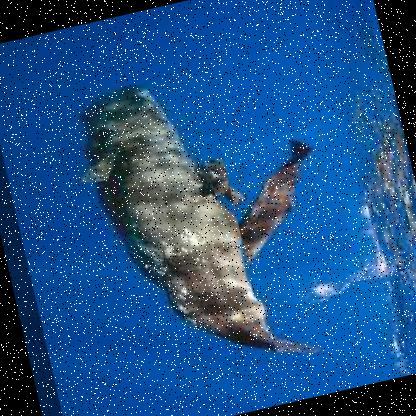sperm_whale: (52, 54, 291, 397), (219, 124, 352, 278)
